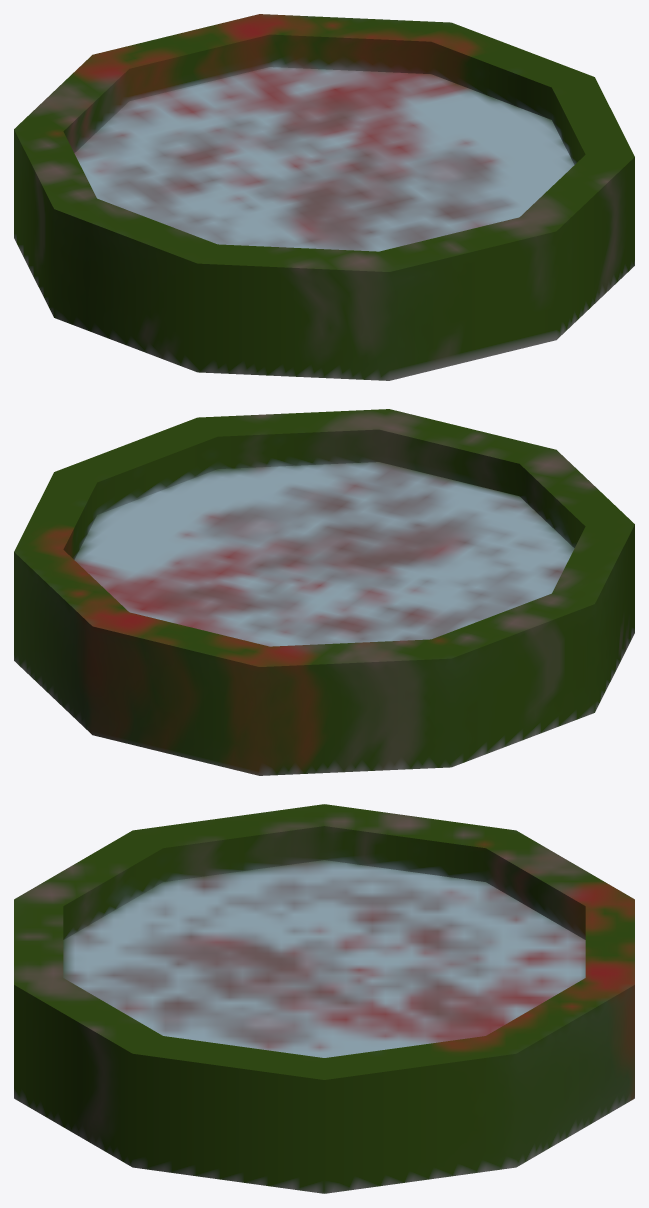
Rendered from bousole.fbx.
3 renders of one model, top to bottom at view 1: azimuth 30°, elevation 25°; view 2: azimuth 150°, elevation 25°; view 3: azimuth 270°, elevation 25°, orthographic. The views are drawn at different scales.
Visible parts, largest first — view 1: Boussole; view 2: Boussole; view 3: Boussole.
Boxes of the visible parts, box(x1,y1,x2,y2) form: Boussole: box(14, 14, 634, 380); Boussole: box(14, 409, 634, 775); Boussole: box(14, 804, 634, 1193).
Size of the model in its own units: 10.4 by 2 by 9.89.
